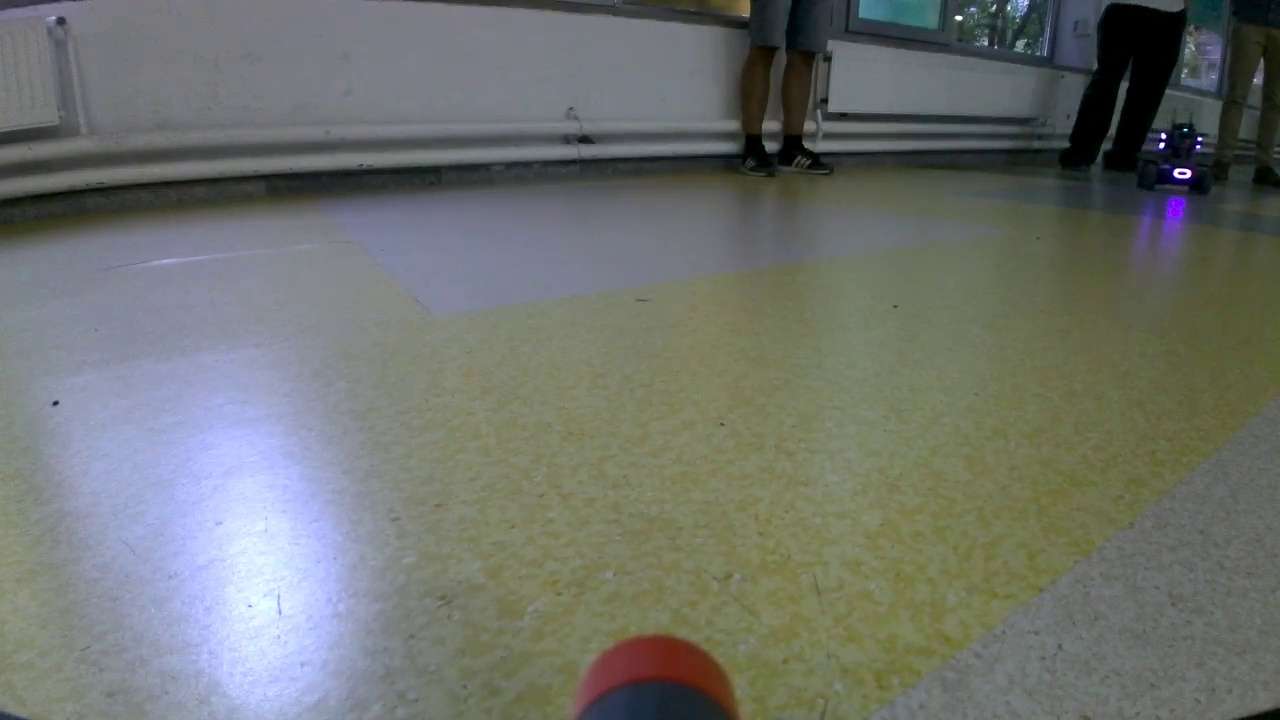robot: (1135, 123, 1216, 197)
